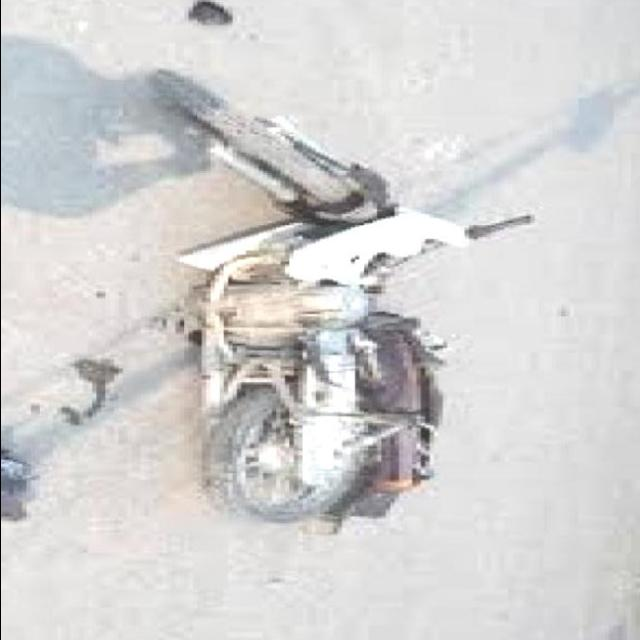accident: (87, 53, 569, 555)
